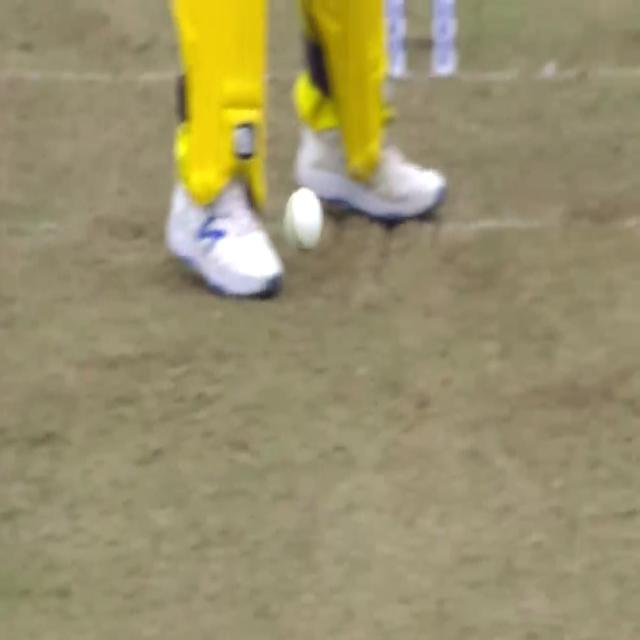ball: (282, 180, 328, 258)
